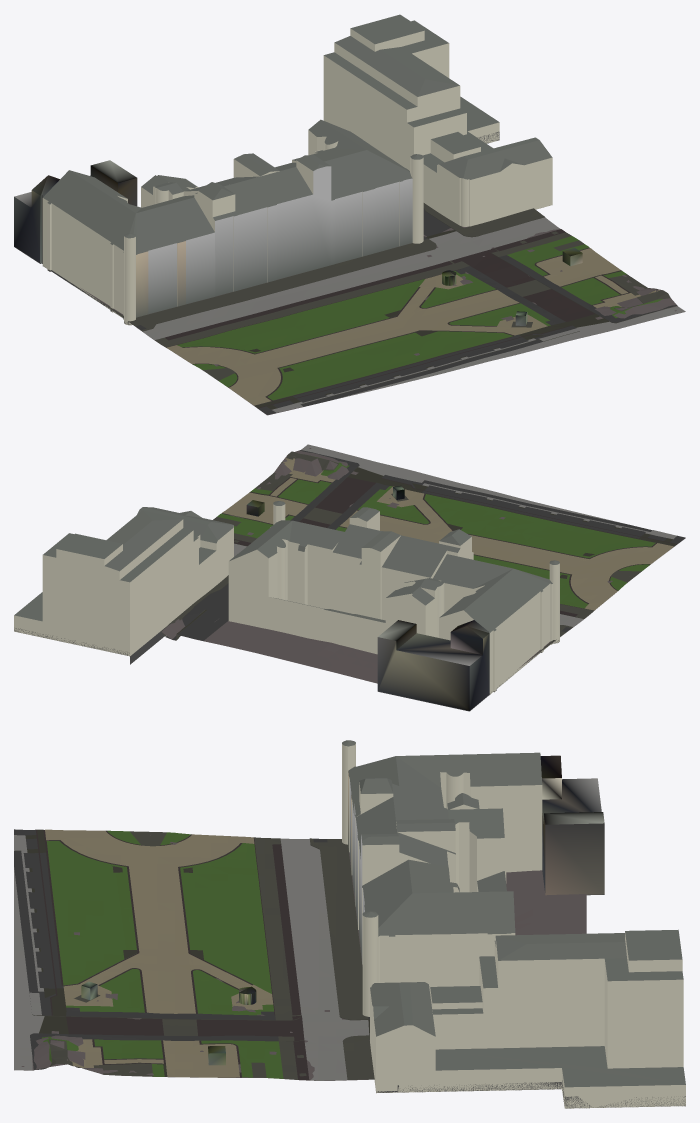
3 views of the same model, one above another, from view 1: azimuth 30°, elevation 25°; view 2: azimuth 150°, elevation 25°; view 3: azimuth 270°, elevation 25° (orthographic). The views are drawn at different scales.
Visible parts, largest first — view 1: c_m02_p01; view 2: c_m02_p01; view 3: c_m02_p01.
Part boxes in pixels (x1=…): c_m02_p01: x1=14, y1=14, x2=685, y2=415; c_m02_p01: x1=14, y1=444, x2=685, y2=711; c_m02_p01: x1=14, y1=740, x2=685, y2=1108.
Bounding box in the file's own units: 144 × 32.45 × 150.
